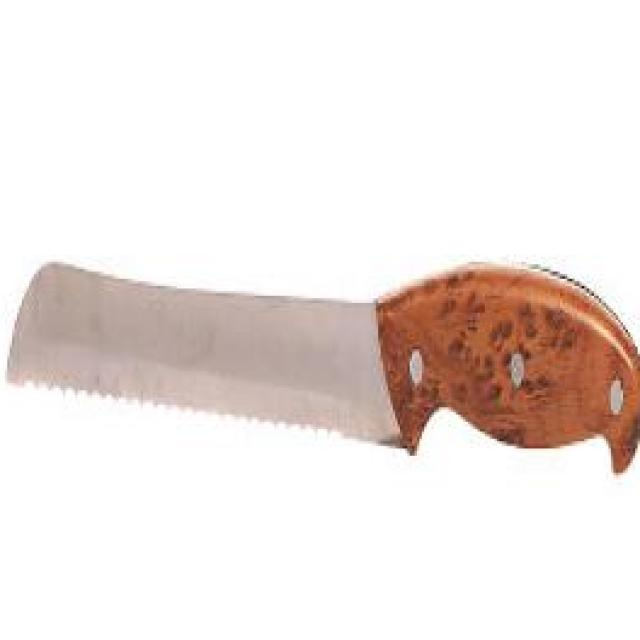knife: (5, 264, 640, 480)
